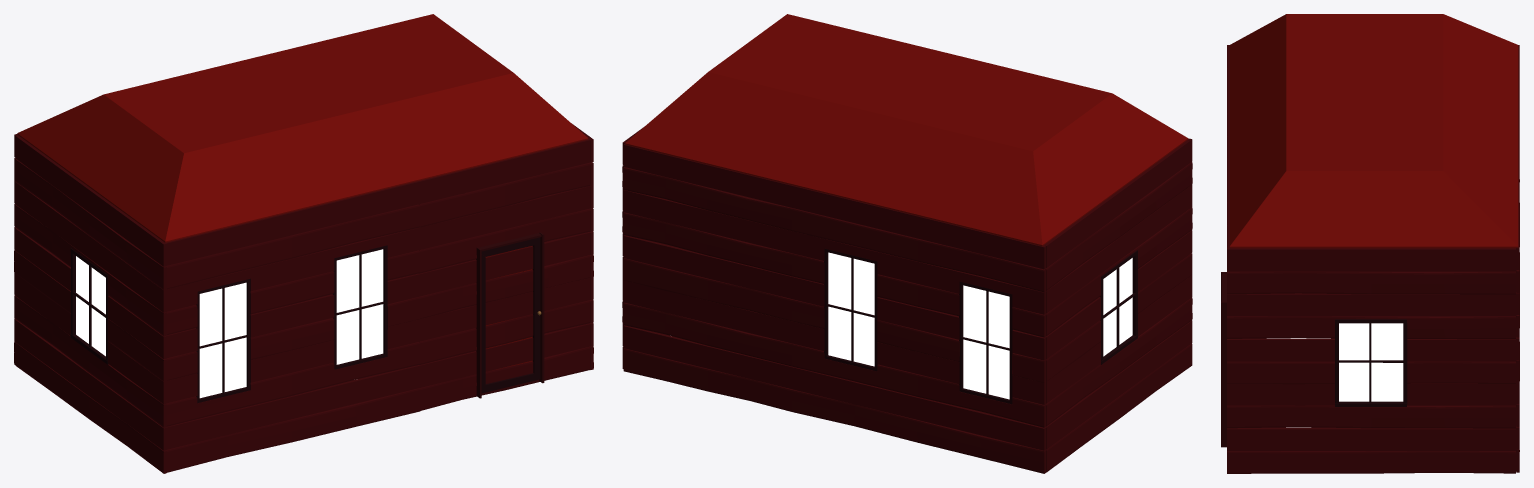
File: d2h_house5.fbx
The picture shows the model from 3 angles, left to right: view 1: azimuth 30°, elevation 25°; view 2: azimuth 150°, elevation 25°; view 3: azimuth 270°, elevation 25°; orthographic projection. The views are drawn at different scales.
Visible parts, largest first — view 1: roof.001, front_wall_r.003, front_wall_mid.002, walla.003, door_unit.002, walla.002; view 2: roof.001, front_wall_r.005, front_wall_mid.003, walla.003; view 3: roof.001, walla.002, front_wall_mid.003, door_unit.002, front_wall_r.003.
Boxes of the visible parts, box(x1,y1,x2,y2) form: roof.001: box(17, 14, 588, 242); front_wall_r.003: box(162, 181, 420, 472); front_wall_mid.002: box(419, 139, 590, 410); walla.003: box(15, 135, 166, 473); door_unit.002: box(476, 232, 544, 398); walla.002: box(572, 124, 593, 369); roof.001: box(625, 14, 1188, 246); front_wall_r.005: box(791, 185, 1045, 473); front_wall_mid.003: box(623, 144, 792, 411); walla.003: box(1044, 138, 1192, 472); roof.001: box(1229, 14, 1518, 248); walla.002: box(1227, 248, 1515, 473); front_wall_mid.003: box(1516, 167, 1519, 472); door_unit.002: box(1221, 272, 1226, 447); front_wall_r.003: box(1227, 45, 1229, 243).
Size of the model in its own units: 154 by 97.61 by 94.6.
